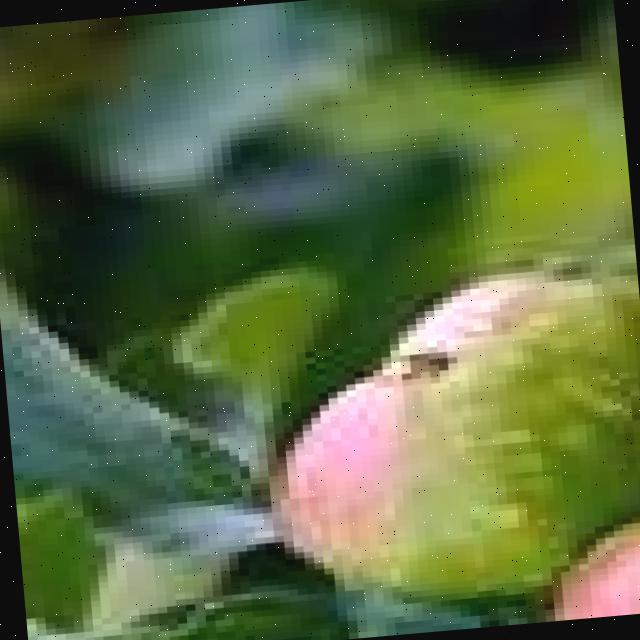Unripe: (269, 327, 640, 613)
